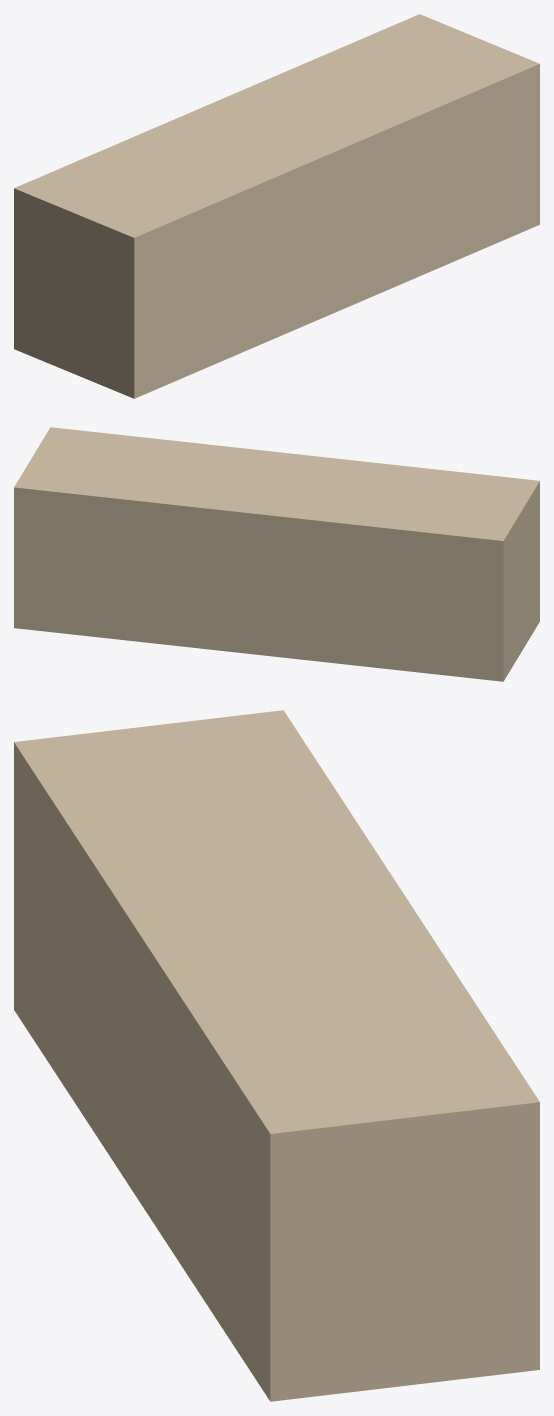
3 renders of one model, top to bottom at view 1: azimuth 30°, elevation 25°; view 2: azimuth 150°, elevation 25°; view 3: azimuth 270°, elevation 25°, orthographic. The views are drawn at different scales.
Visible parts, largest first — view 1: SM_bd8f29690183c8ecf847; view 2: SM_bd8f29690183c8ecf847; view 3: SM_bd8f29690183c8ecf847.
Part boxes in pixels (<box>): SM_bd8f29690183c8ecf847: <box>14,14,539,398</box>; SM_bd8f29690183c8ecf847: <box>14,427,539,681</box>; SM_bd8f29690183c8ecf847: <box>14,710,539,1401</box>.
Bounding box in the file's own units: 30.56 × 16.03 × 9.
